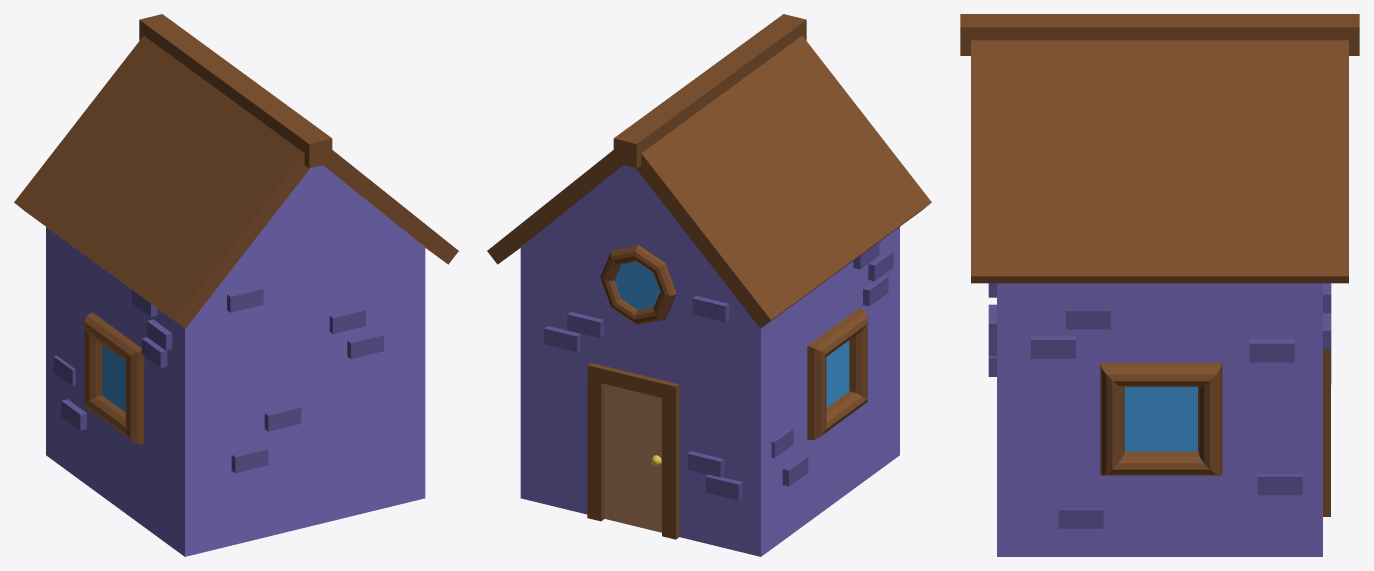
File: House1.1.glb
3 renders of one model, left to right at view 1: azimuth 30°, elevation 25°; view 2: azimuth 150°, elevation 25°; view 3: azimuth 270°, elevation 25°, orthographic. The views are drawn at different scales.
Parts seen in each view (by area): view 1: Cube.046, Cube.045, Cylinder.004, Cube.047, Torus.002, Cube.044, Cylinder.010, Cube.314, Cube.313, Cube.312, Cube.311, Cube.315 (+3 smaller); view 2: Cube.046, Cube.045, Cylinder.004, Cube.295, Cube.047, Torus.002, Cube.044, Torus.004, Cube.294, Cube.293, Cube.292, Cylinder.012 (+9 smaller); view 3: Cube.044, Cube.046, Cube.047, Torus.003, Cylinder.011, Cube.293, Cube.302, Cube.301, Cube.304, Cube.303, Cube.305.
Part boxes in pixels (box(x1,y1,x2,y2)): Cube.046: box(46, 227, 425, 556); Cube.045: box(14, 35, 309, 328); Cylinder.004: box(208, 165, 424, 299); Cube.047: box(139, 14, 332, 168); Torus.002: box(84, 312, 144, 444); Cube.044: box(323, 150, 458, 264); Cylinder.010: box(102, 344, 125, 411); Cube.314: box(264, 405, 301, 431); Cube.313: box(231, 446, 268, 473); Cube.312: box(347, 332, 383, 358); Cube.311: box(227, 286, 263, 312); Cube.315: box(329, 307, 365, 333); Cube.046: box(520, 227, 899, 556); Cube.045: box(636, 35, 931, 328); Cylinder.004: box(521, 165, 738, 300); Cube.295: box(604, 384, 661, 532); Cube.047: box(613, 14, 806, 168); Torus.002: box(807, 308, 867, 439); Cube.044: box(487, 150, 622, 264); Torus.004: box(600, 245, 676, 324); Cube.294: box(662, 398, 679, 539); Cube.293: box(587, 379, 604, 521); Cube.292: box(587, 363, 679, 401); Cylinder.012: box(614, 261, 660, 309); Cube.044: box(971, 40, 1348, 283); Cube.046: box(997, 283, 1322, 556); Cube.047: box(960, 14, 1359, 55); Torus.003: box(1100, 362, 1222, 475); Cylinder.011: box(1124, 387, 1197, 451); Cube.293: box(1323, 353, 1330, 516); Cube.302: box(1249, 339, 1294, 362); Cube.301: box(1031, 336, 1075, 358); Cube.304: box(1257, 474, 1302, 495); Cube.303: box(1066, 309, 1110, 329); Cube.305: box(1058, 509, 1103, 528).
Bounding box in the file's own units: 1.62 × 2.16 × 1.67.
